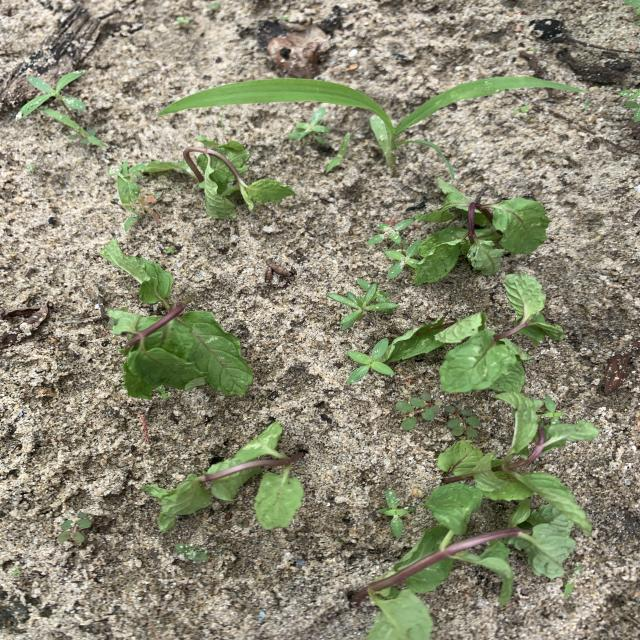crop: (366, 483, 583, 640), (101, 240, 253, 399), (438, 392, 598, 534), (386, 274, 564, 393), (142, 421, 305, 532), (414, 179, 550, 285), (143, 136, 295, 218)
weed: (160, 76, 580, 171), (327, 278, 398, 328), (16, 71, 85, 120), (40, 108, 107, 147), (112, 174, 161, 225), (347, 339, 394, 383), (377, 489, 415, 538), (385, 240, 423, 279), (395, 393, 444, 420), (288, 107, 329, 139), (367, 219, 414, 246), (444, 405, 480, 438), (58, 512, 93, 544), (324, 133, 350, 174), (618, 89, 640, 123), (561, 565, 580, 598), (401, 419, 419, 430)
